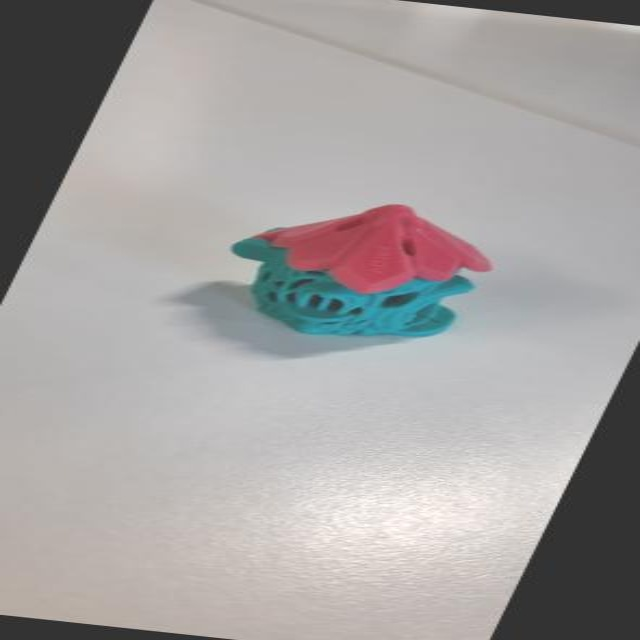House: (121, 170, 545, 377)
